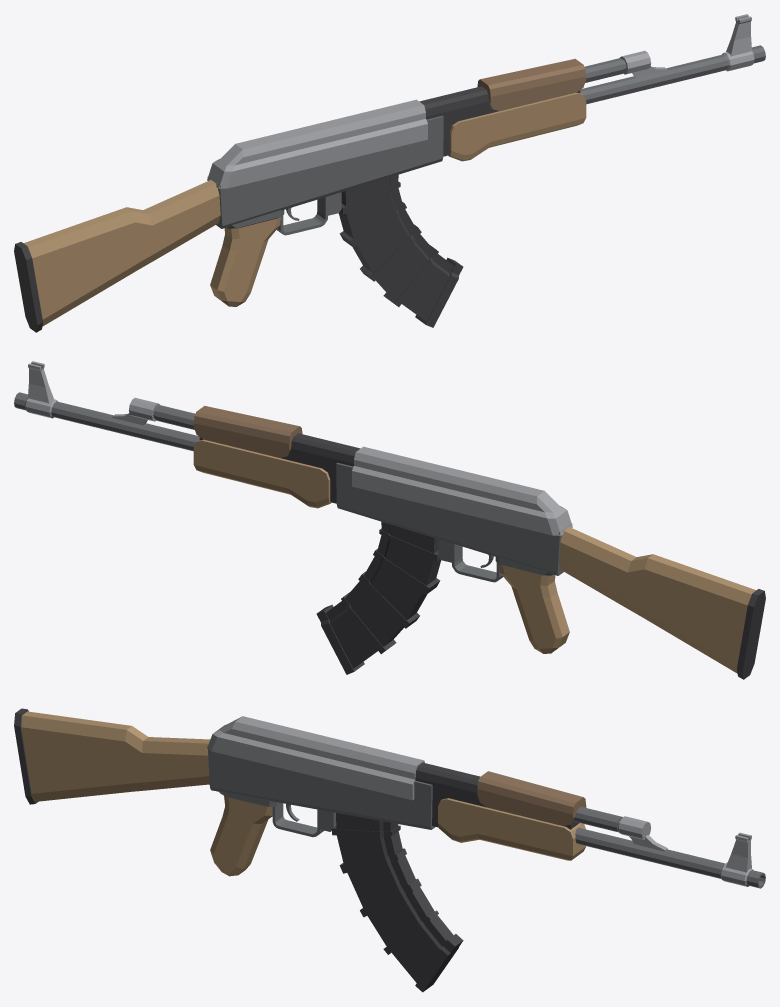
The model's file is gun_ar7.fbx.
3 renders of one model, top to bottom at view 1: azimuth 30°, elevation 25°; view 2: azimuth 150°, elevation 25°; view 3: azimuth 330°, elevation 25°, orthographic.
Visible parts, largest first — view 1: AssaultRifle_2; view 2: AssaultRifle_2; view 3: AssaultRifle_2.
Boxes of the visible parts, x1=… form: AssaultRifle_2: x1=14, y1=14, x2=765, y2=332; AssaultRifle_2: x1=14, y1=361, x2=765, y2=679; AssaultRifle_2: x1=14, y1=708, x2=765, y2=992.
Bounding box in the file's own units: 92.17 × 3.33 × 27.22.
